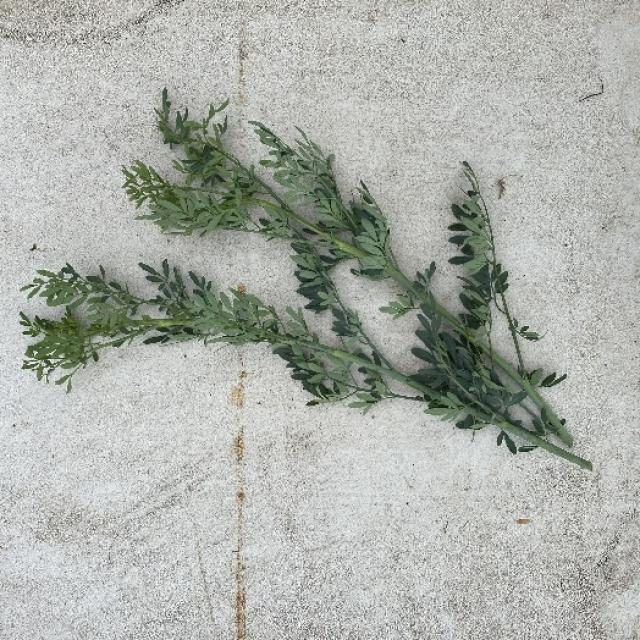organik: (48, 93, 597, 470)
